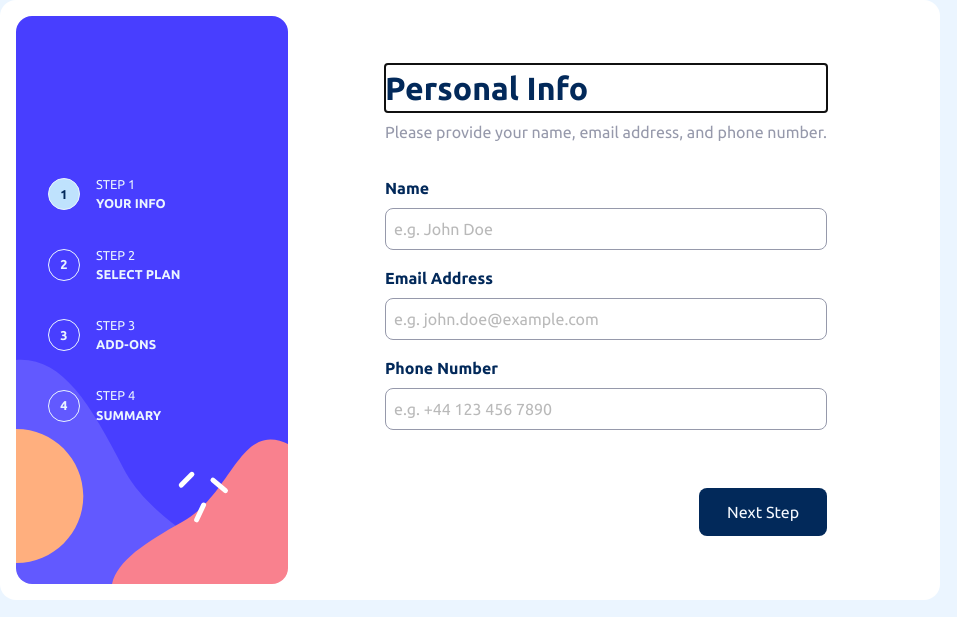
it: MultiStepForm › Flow 1: validation on step 1 › shows an email format error when the email is malformed
Type "Jane Doe" into the field labelled "Name". click: (606, 229)
box: [385, 208, 827, 250]
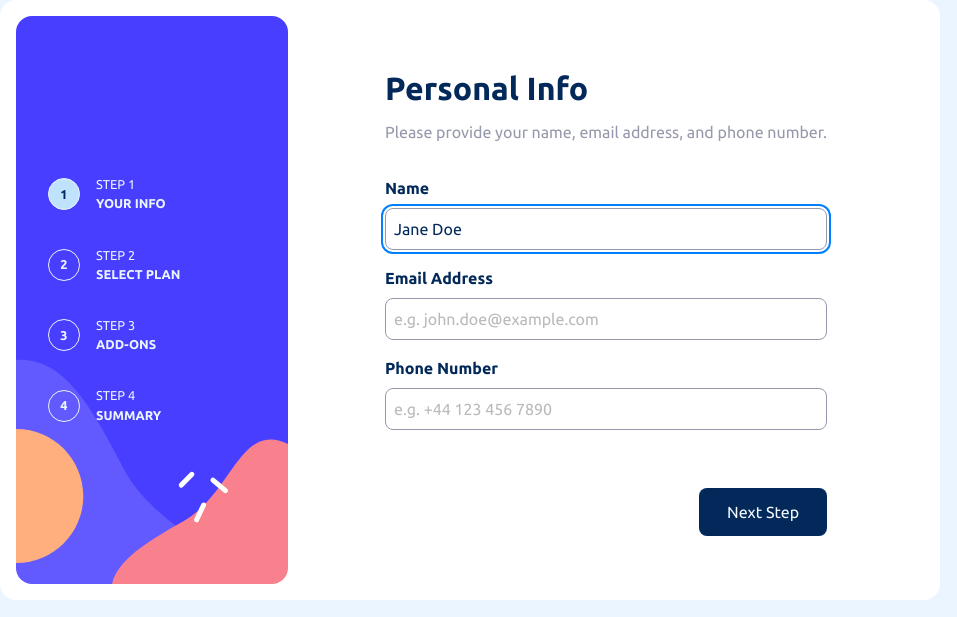
Type "not-an-email" into the field labelled "Email Address". click: (606, 319)
box: [385, 298, 827, 340]
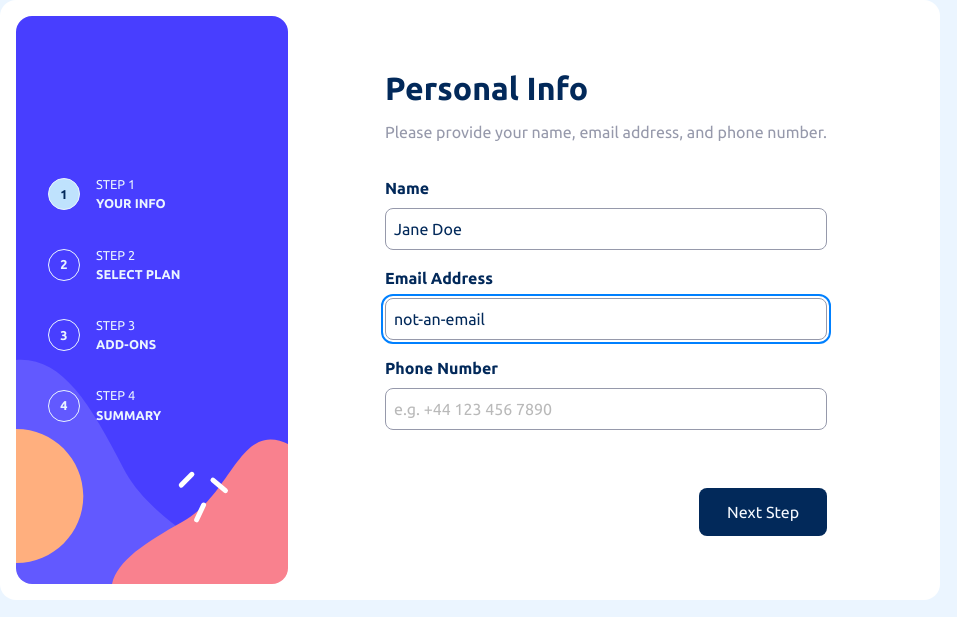
Type "1234567890" into the field labelled "Phone Number". click: (606, 409)
box: [385, 388, 827, 430]
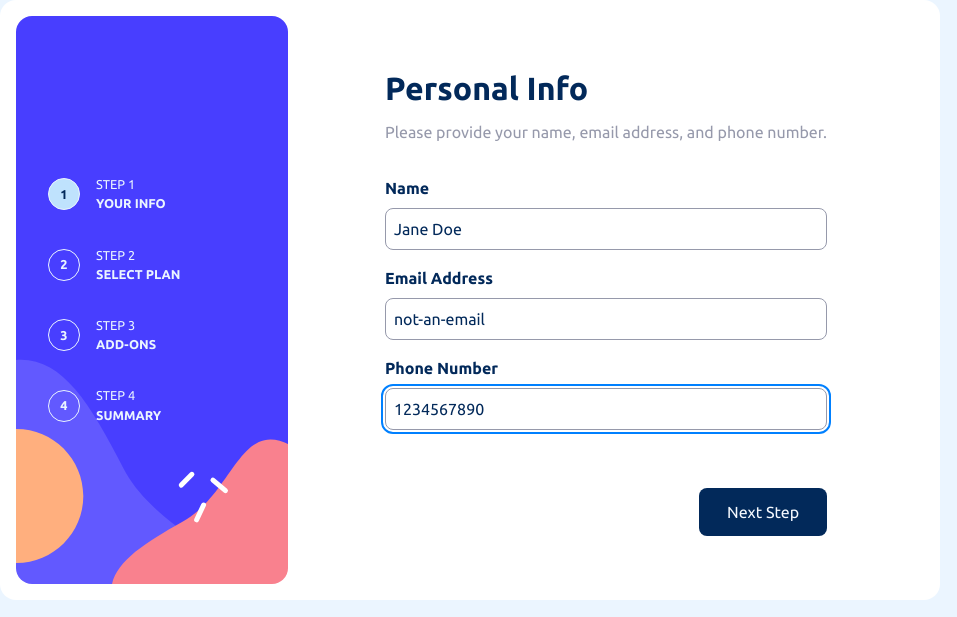
Click the button "Next Step". click: (763, 512)
box: [699, 488, 827, 536]
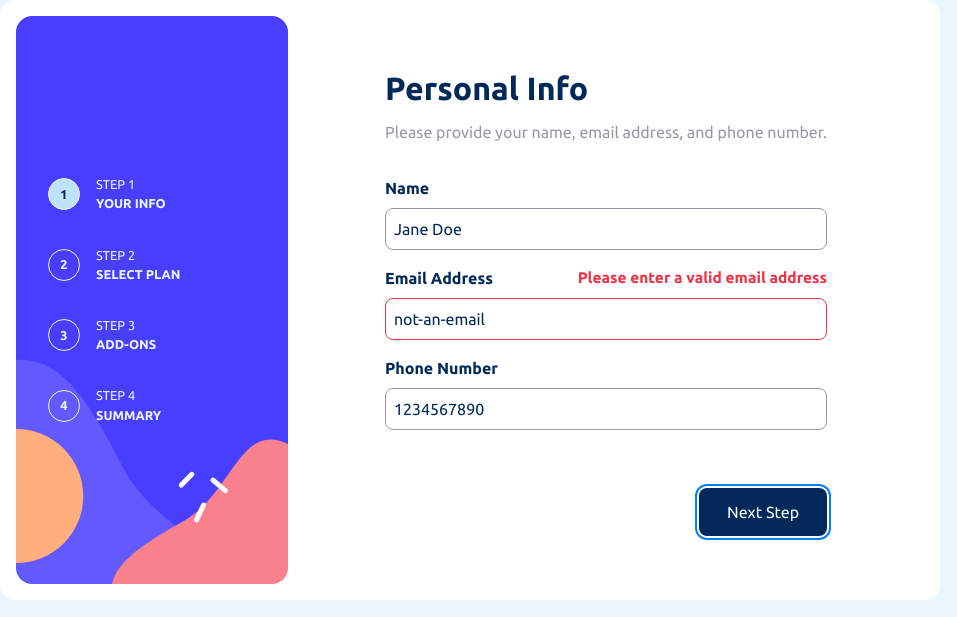
Expected: the text "Please enter a valid email address" is shown, [578, 266, 827, 290]
